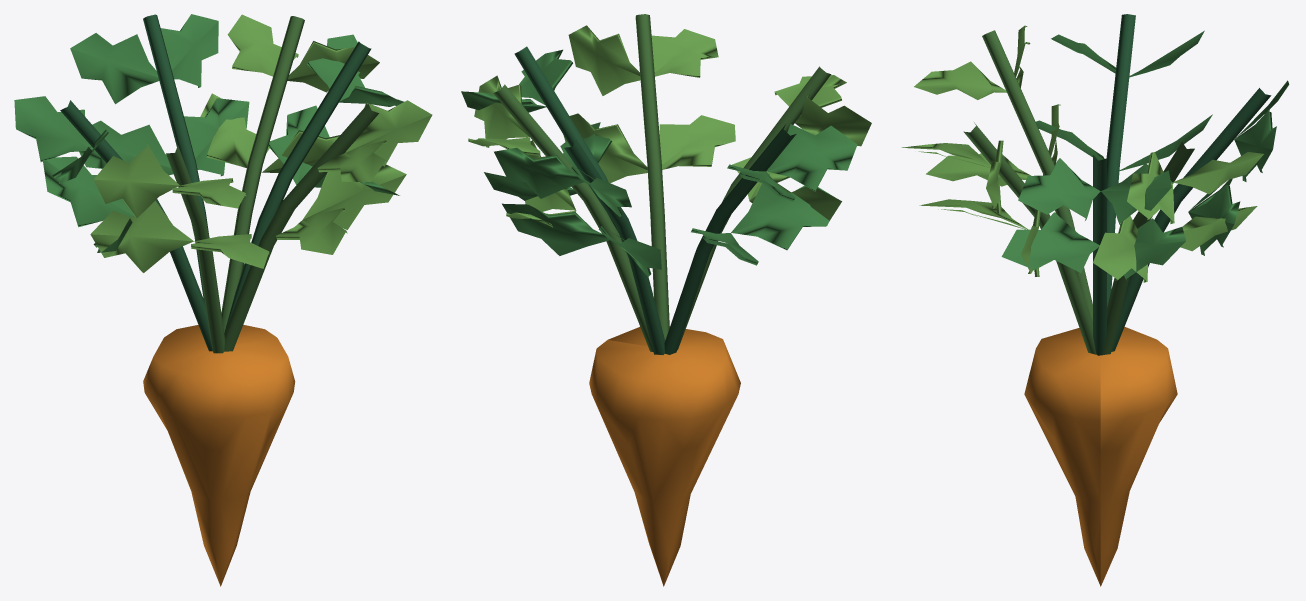
File: zanahoria_3_lod.glb
3 renders of one model, left to right at view 1: azimuth 30°, elevation 25°; view 2: azimuth 150°, elevation 25°; view 3: azimuth 270°, elevation 25°, orthographic.
Parts seen in each view (by area): view 1: zanahoria_3_penacho_0; view 2: zanahoria_3_penacho_0; view 3: zanahoria_3_penacho_0.
Part boxes in pixels (x1,y1,x2,y2): zanahoria_3_penacho_0: (14,14,432,586); zanahoria_3_penacho_0: (461,14,871,586); zanahoria_3_penacho_0: (901,14,1289,586).
Size of the model in its own units: 0.4081 by 0.5747 by 0.4019.
